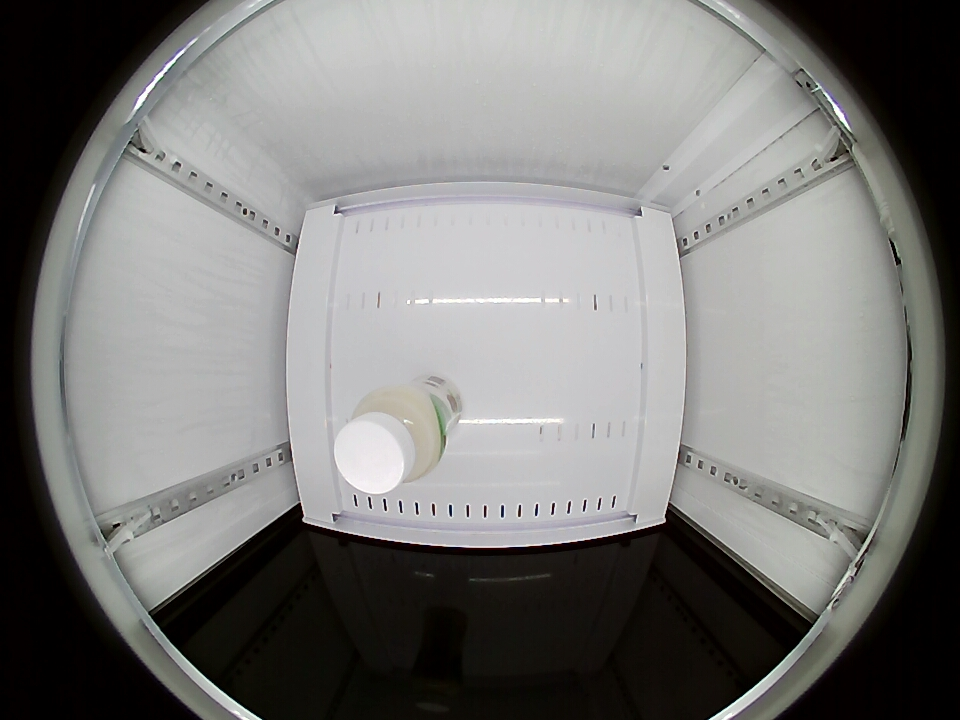yousuanru: (334, 382, 449, 495)
